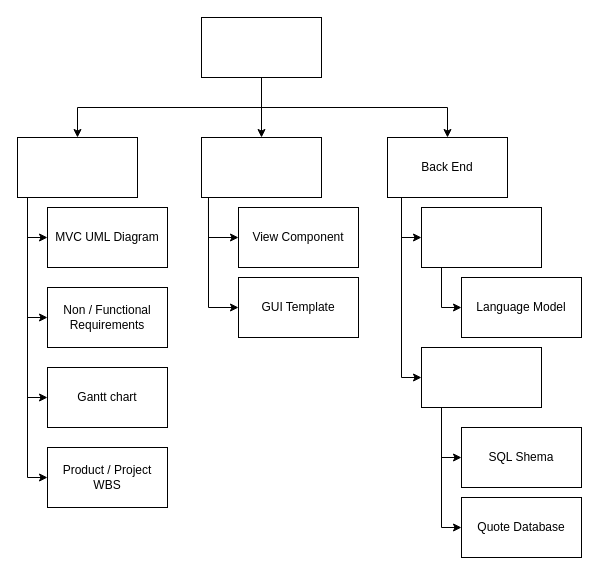
Some shapes in this 599 by 575 pixel diagram are drawn without their labels. Here are the shapes that lost their labels. From the top down, the box of each, then its label:
(200, 16, 322, 78): QuoteQueen
(16, 136, 138, 198): Requirements Document
(200, 136, 322, 198): Front End
(420, 206, 542, 268): Controller Component
(420, 346, 542, 408): Model Component
